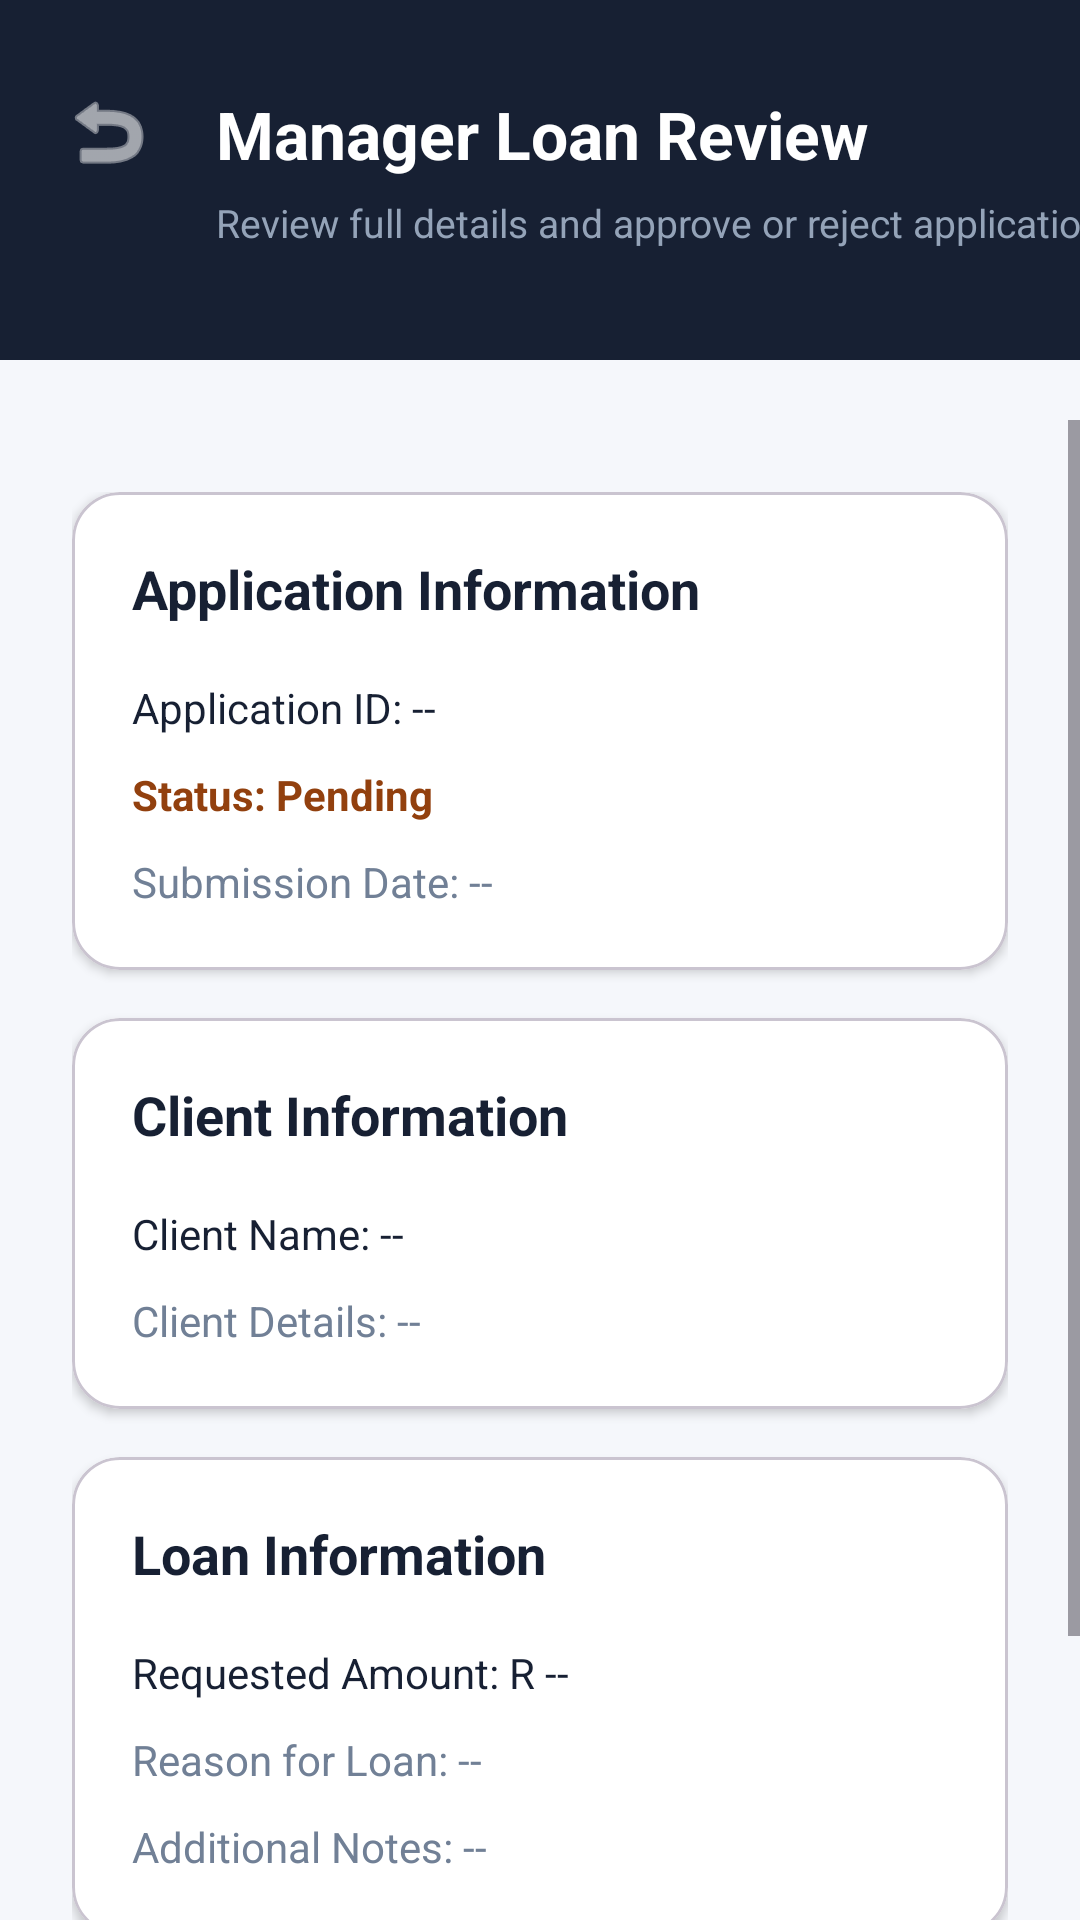

Where icons sit on this 1080*1920 app screen, as bbox=(x1, y1, x2, y2):
Back: bbox=(75, 101, 144, 164)
